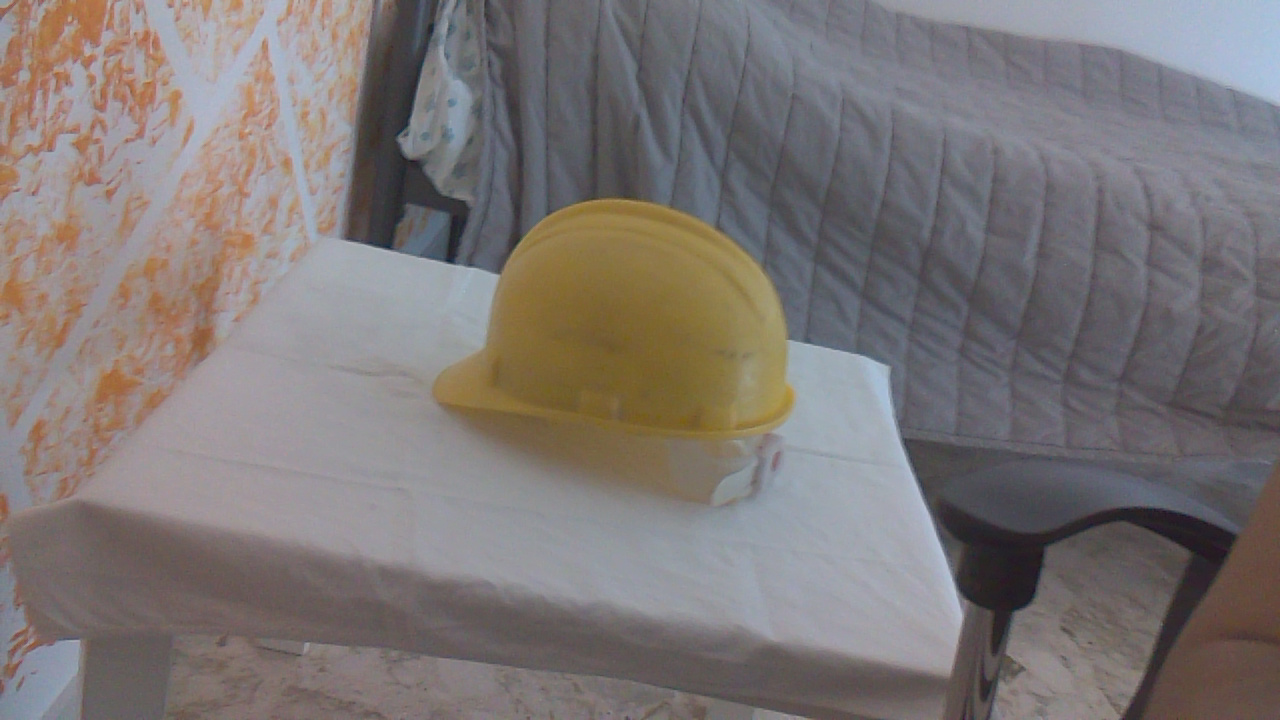Helmet: (434, 192, 802, 514)
